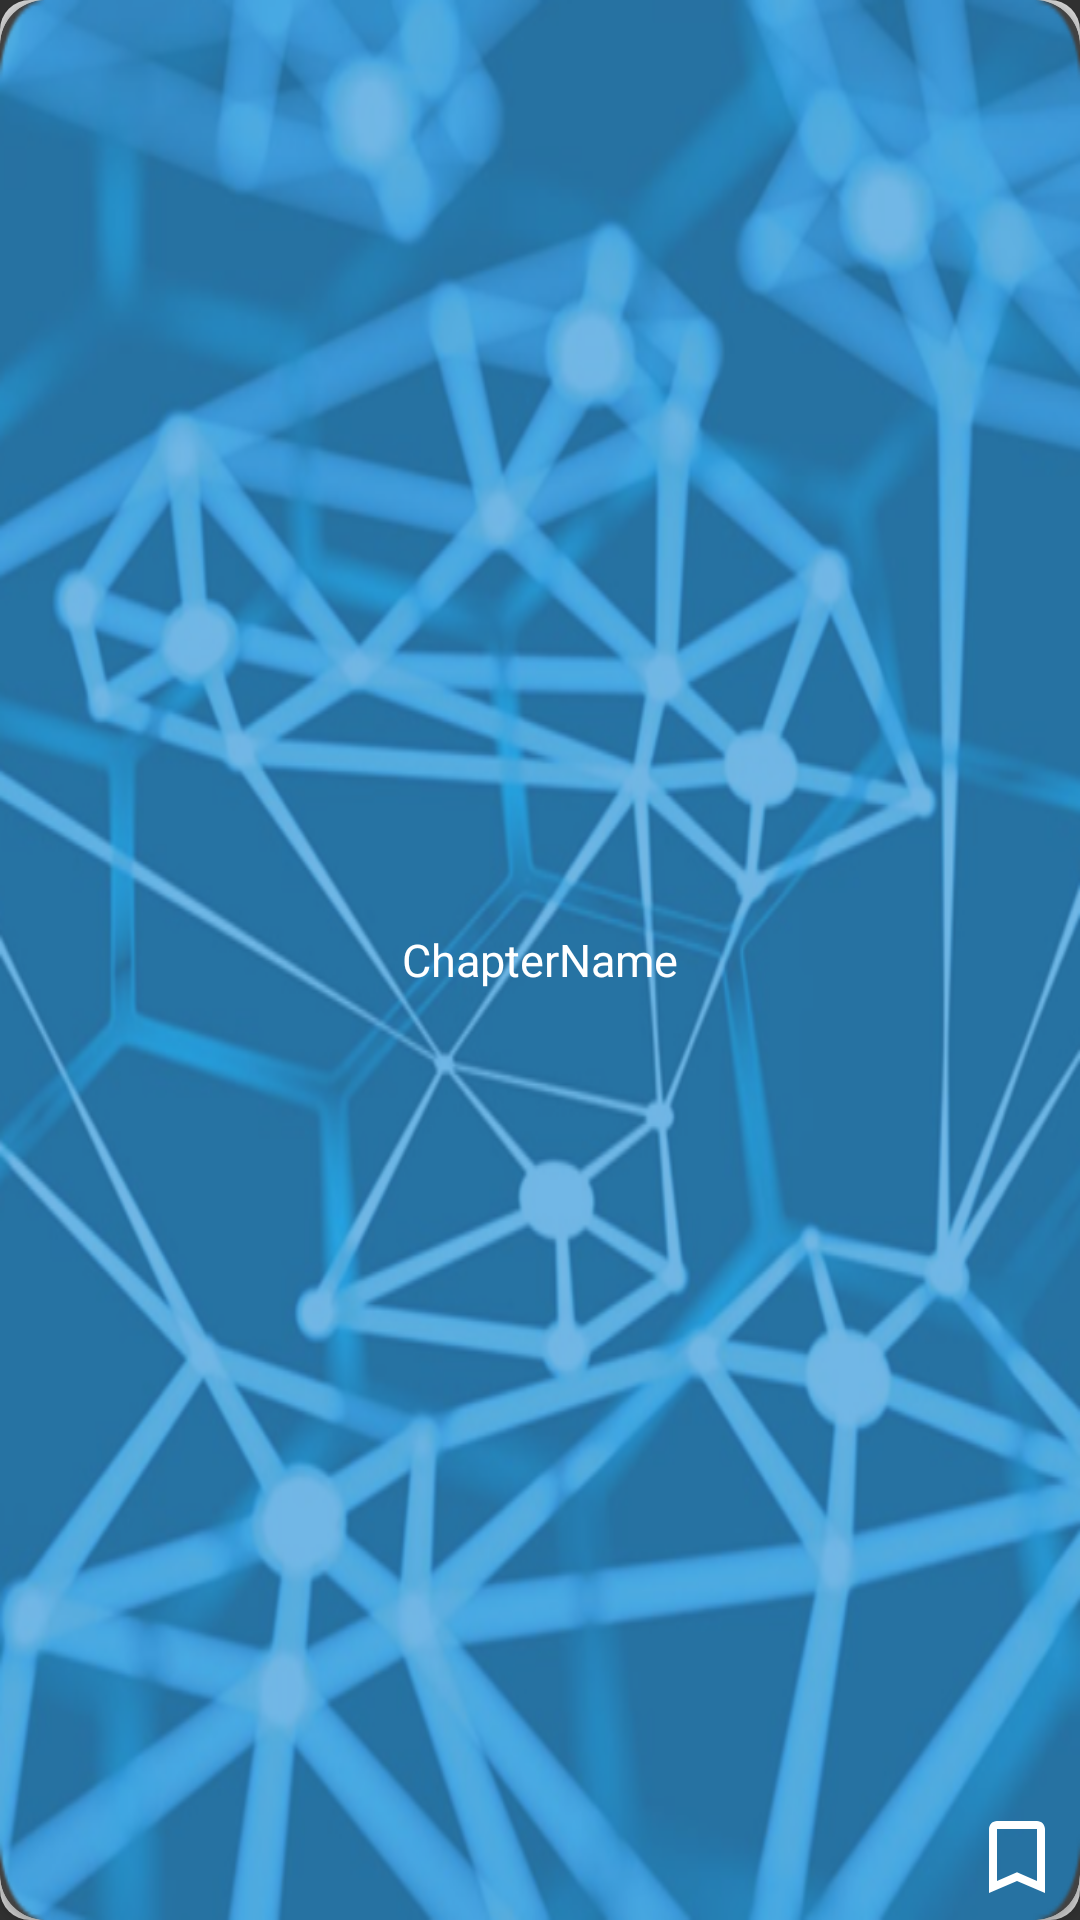

Icon bounding boxes for this 1080px×1920px phone screenshot, format (x1, y1, x2, y2):
bookmark border: (989, 1821, 1080, 1920)
